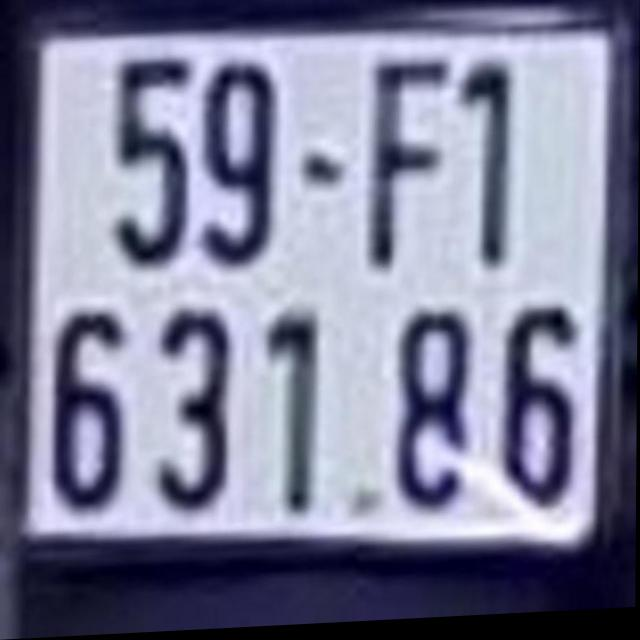1: (265, 294, 319, 516), (463, 60, 510, 277)
3: (158, 299, 227, 516)
5: (114, 52, 189, 270)
6: (52, 308, 130, 512), (507, 306, 580, 520)
8: (400, 305, 471, 512)
9: (203, 62, 275, 273)
F: (372, 62, 453, 282)
